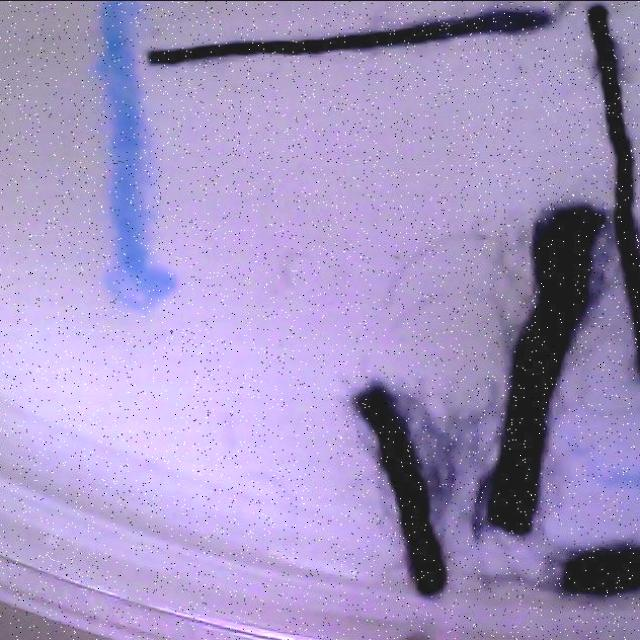Fibre: (130, 5, 578, 70), (344, 380, 458, 608)
